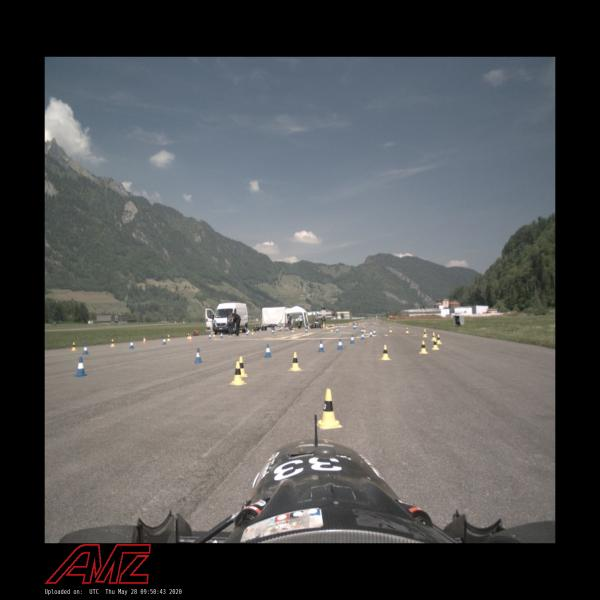blue_cone: (75, 357, 87, 377), (194, 348, 203, 363), (264, 343, 272, 358), (82, 344, 90, 355), (318, 340, 325, 352), (337, 339, 343, 349), (350, 334, 355, 344), (129, 339, 134, 349), (162, 336, 166, 345), (369, 330, 373, 338), (360, 332, 364, 340), (208, 332, 212, 339), (373, 329, 376, 335), (361, 328, 364, 334), (220, 332, 223, 338), (336, 327, 339, 333), (353, 323, 356, 329), (246, 331, 249, 336), (305, 328, 308, 333), (355, 323, 358, 328), (272, 328, 274, 334), (354, 324, 357, 328)
orange_cone: (142, 336, 146, 344), (189, 334, 192, 342)
yellow_cone: (316, 389, 342, 430), (230, 361, 246, 386), (234, 357, 249, 378), (288, 352, 301, 372), (380, 344, 390, 360), (419, 340, 428, 354), (432, 339, 439, 350), (436, 334, 442, 344), (71, 342, 76, 351), (431, 332, 436, 340), (110, 339, 115, 347), (423, 331, 427, 338), (423, 329, 427, 335), (167, 334, 170, 342), (363, 326, 366, 332), (187, 333, 190, 339), (251, 329, 254, 335), (406, 328, 409, 333), (389, 327, 392, 332), (331, 326, 333, 332), (292, 327, 294, 332), (213, 332, 215, 336)
